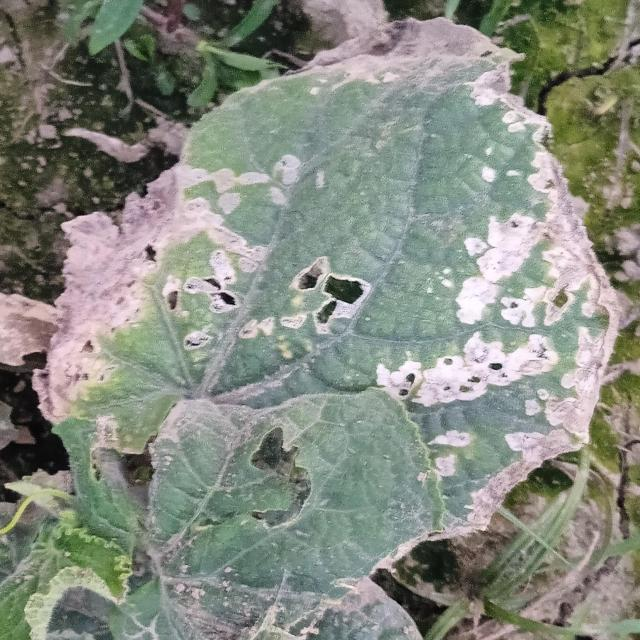cucumber_anthracnose: (63, 26, 617, 572)
